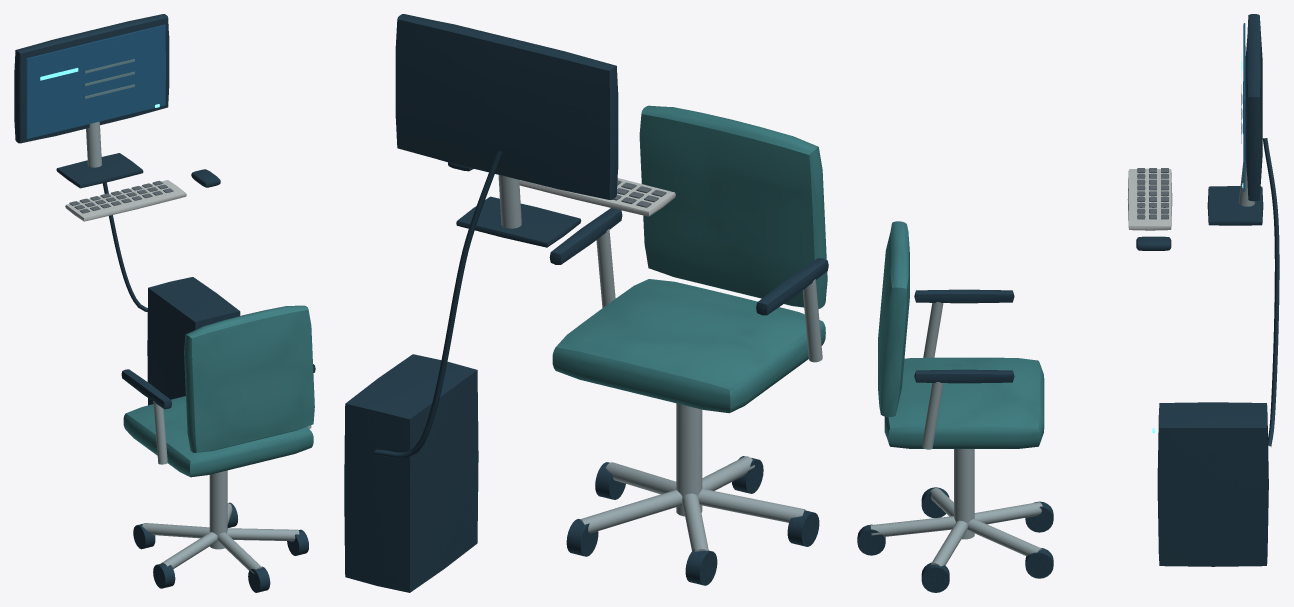
Rendered from reception-terminal.glb.
The picture shows the model from 3 angles, left to right: view 1: azimuth 30°, elevation 25°; view 2: azimuth 150°, elevation 25°; view 3: azimuth 270°, elevation 25°; orthographic projection. The views are drawn at different scales.
Parts seen in each view (by area): view 1: chair, reception-terminal; view 2: chair, reception-terminal; view 3: chair, reception-terminal.
Part boxes in pixels (x1,y1,x2,y2): chair: (121,305,315,592); reception-terminal: (14,14,240,405); chair: (549,105,828,585); reception-terminal: (344,14,675,592); chair: (857,221,1053,592); reception-terminal: (1127,14,1279,566).
Bounding box in the file's own units: 0.6575 × 1.48 × 1.14.
Materials: 58 (58 with a texture image).
